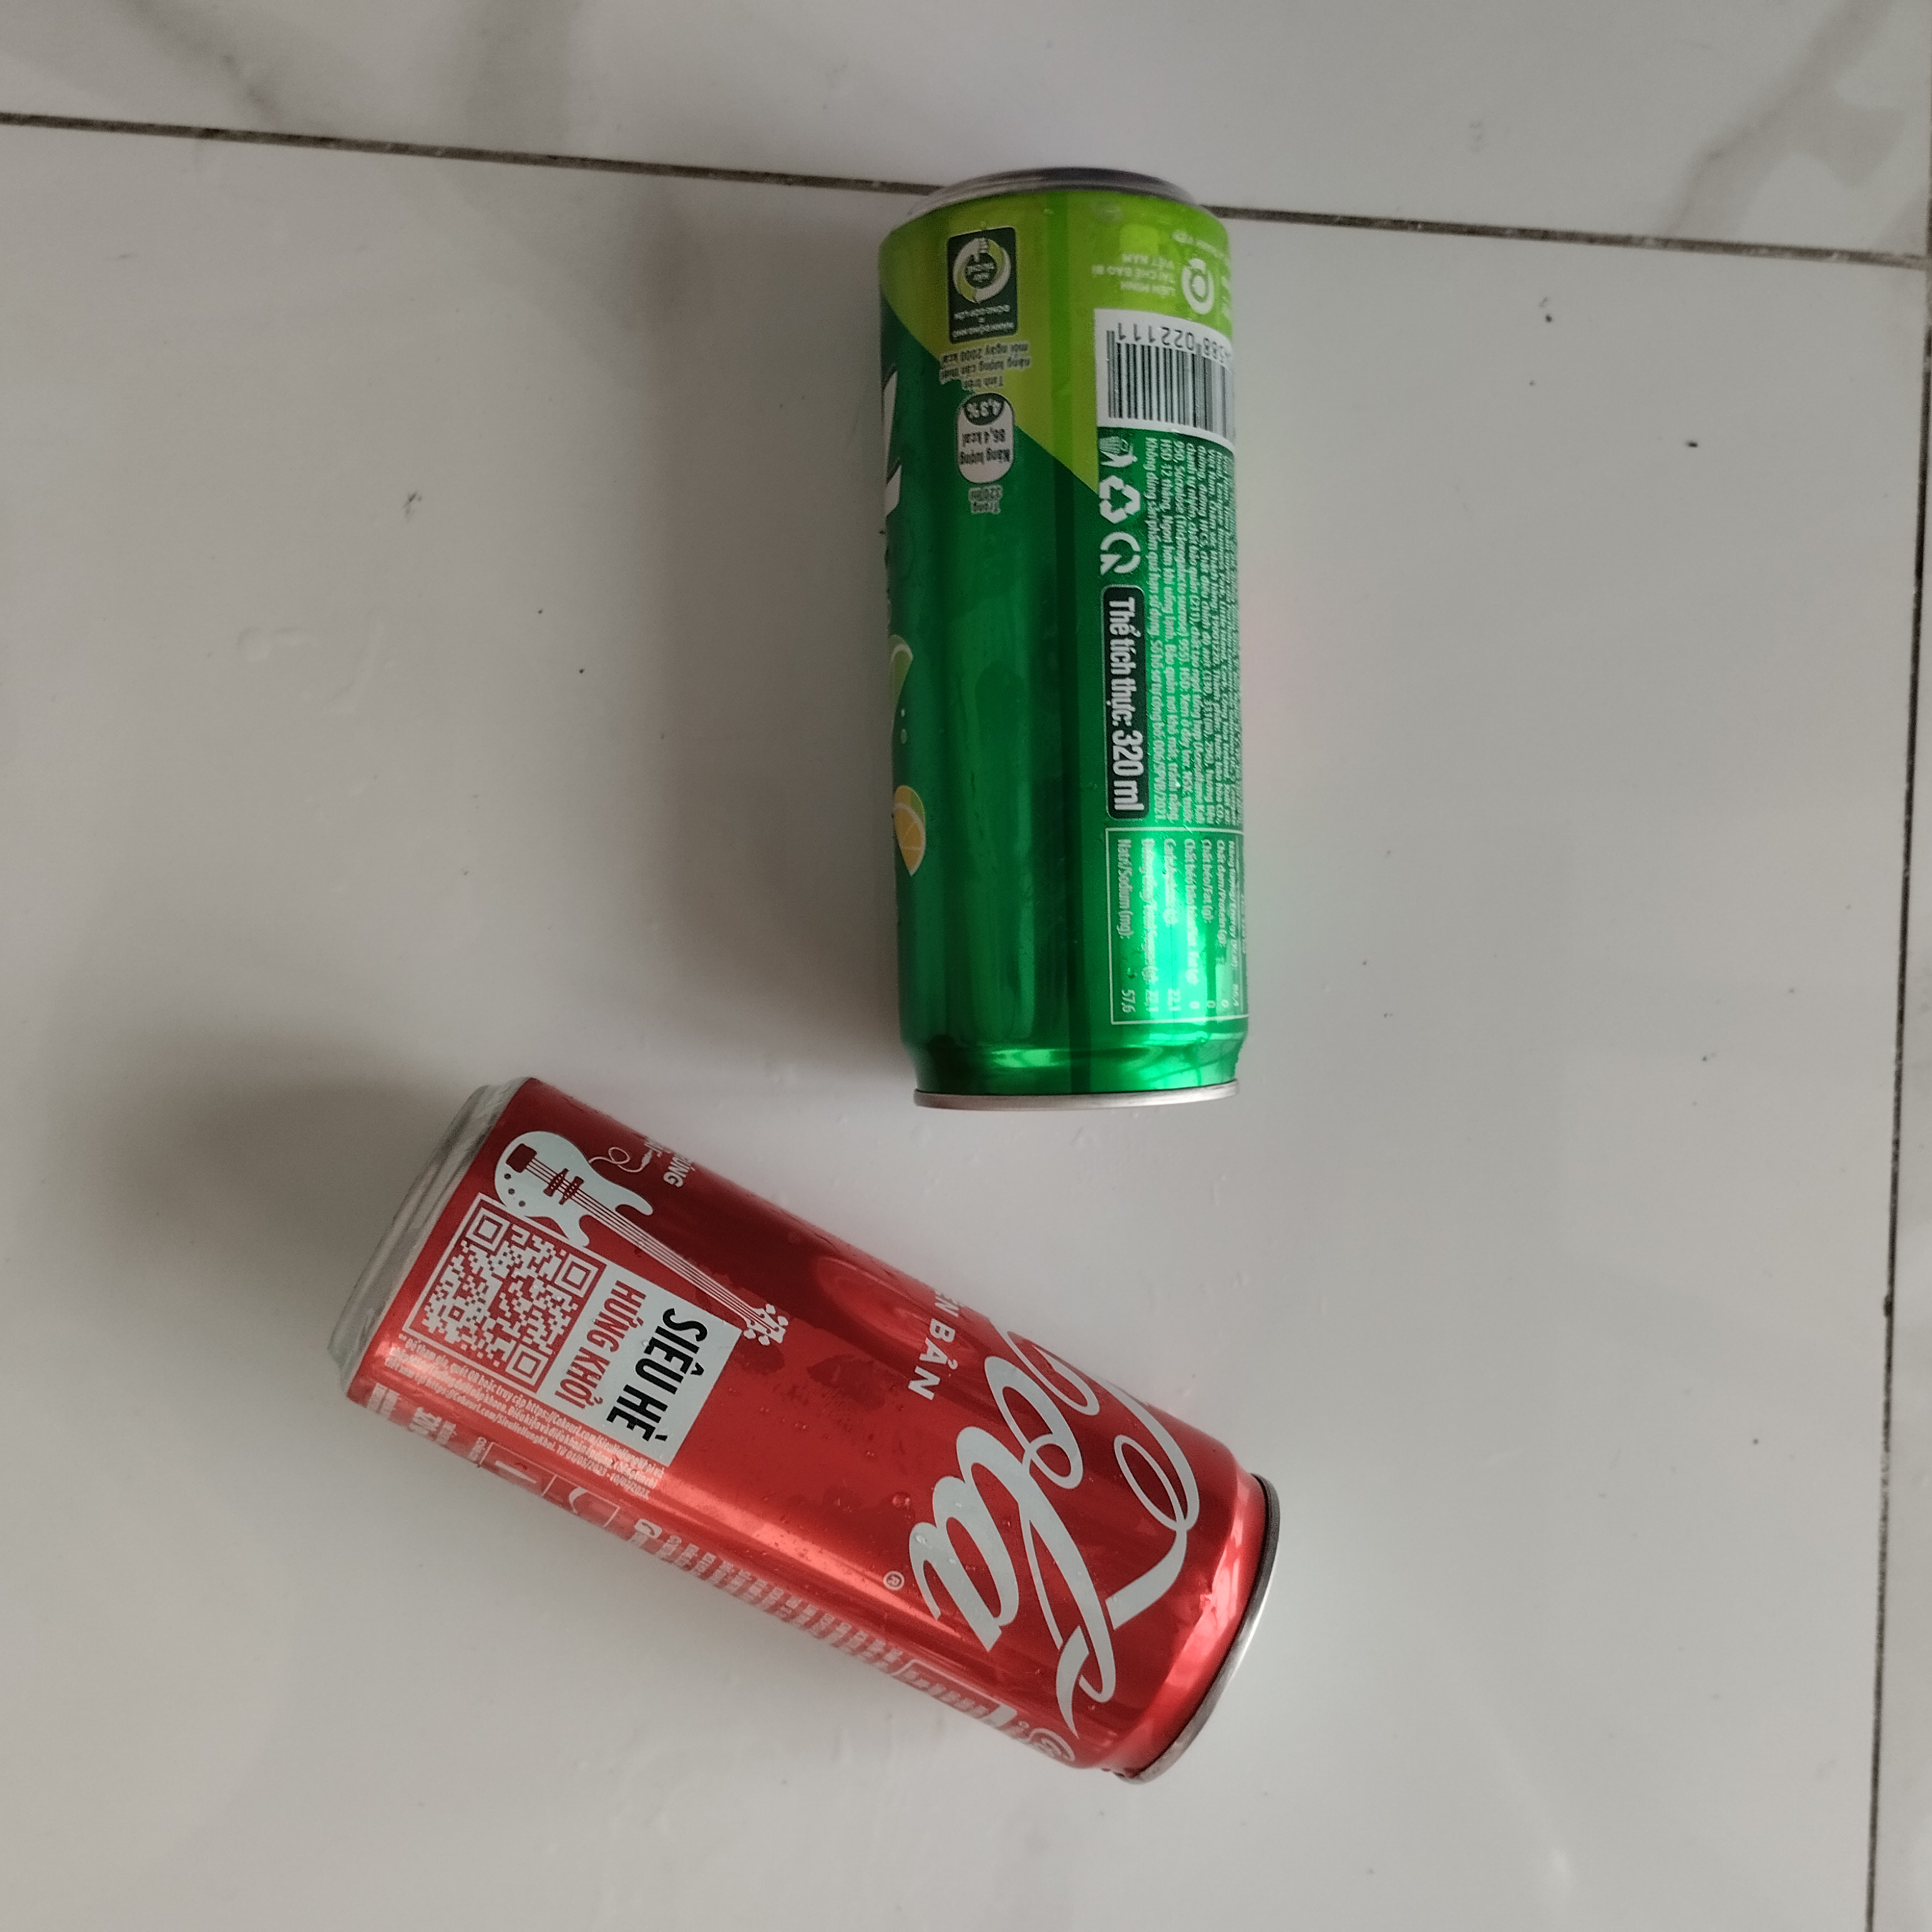7up: (858, 163, 1274, 1125)
Coca: (315, 1065, 1290, 1789)
